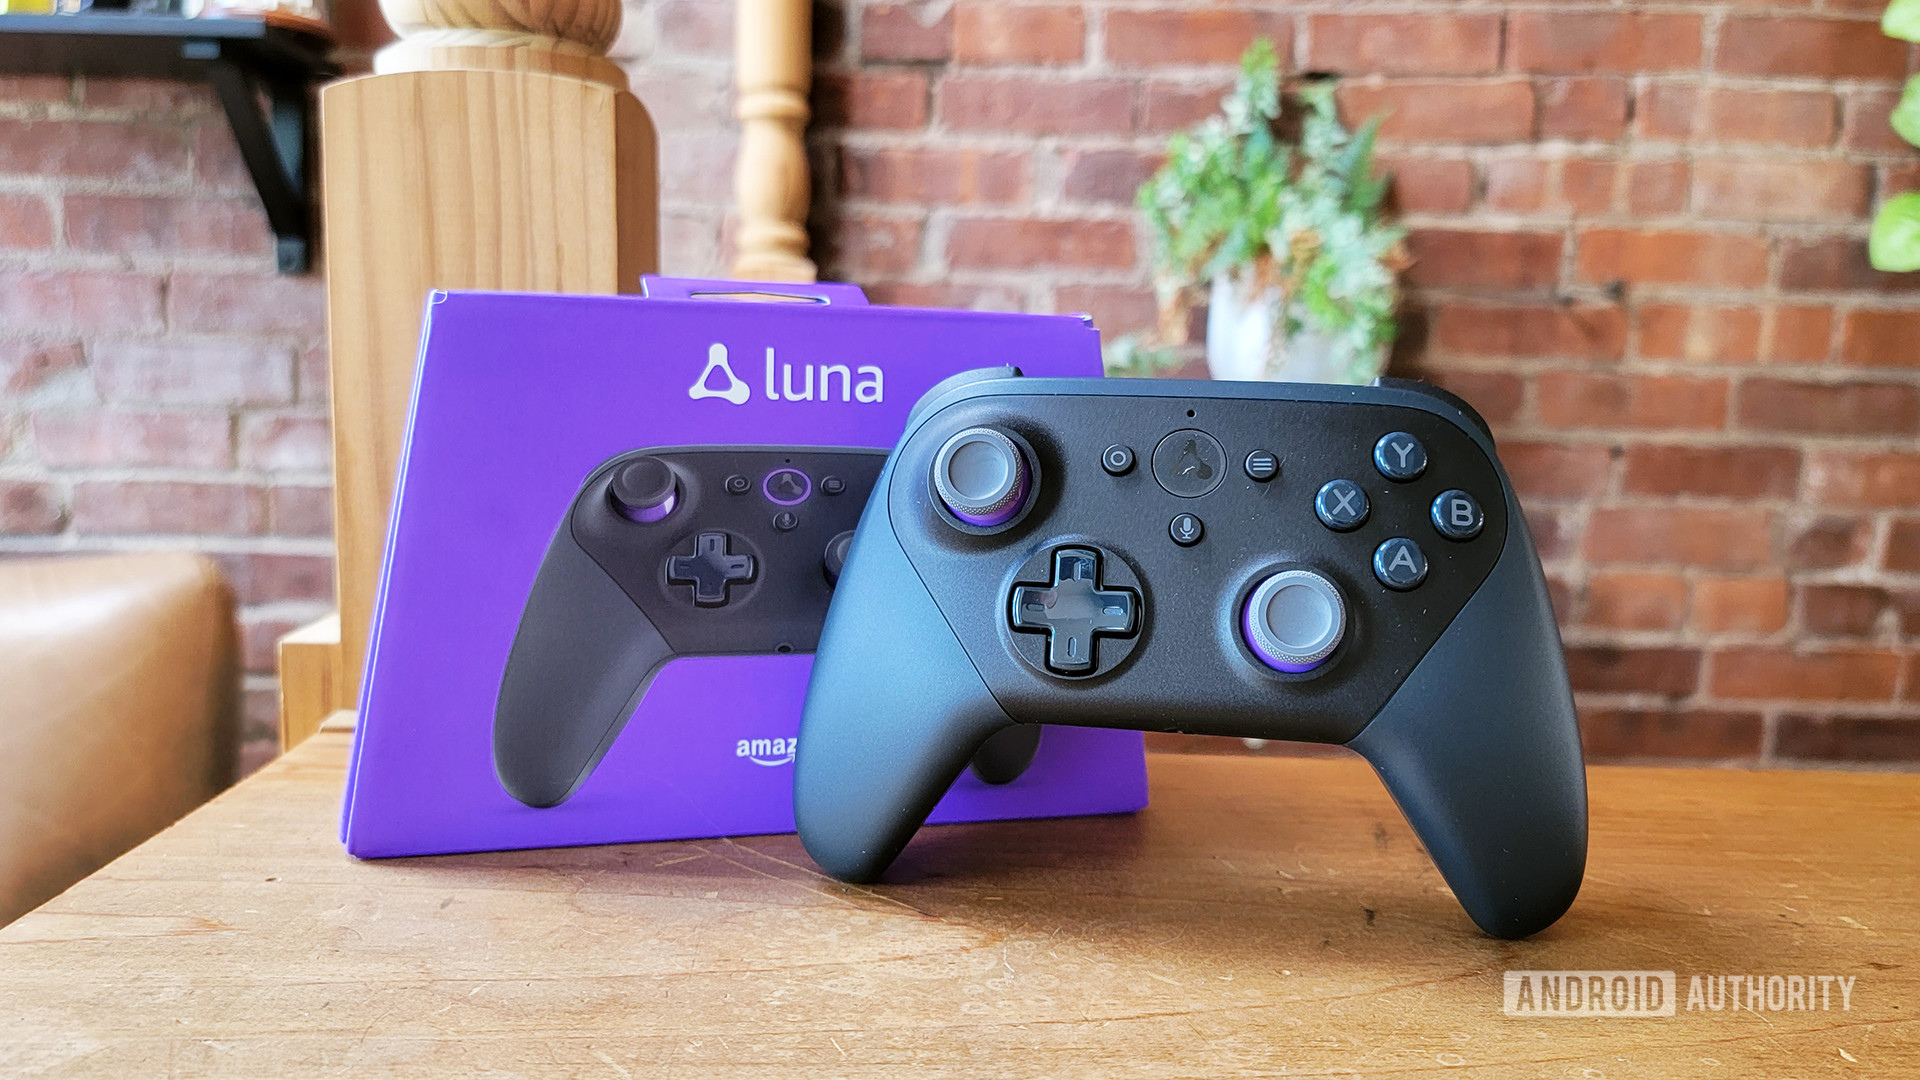controller: (793, 364, 1594, 938)
